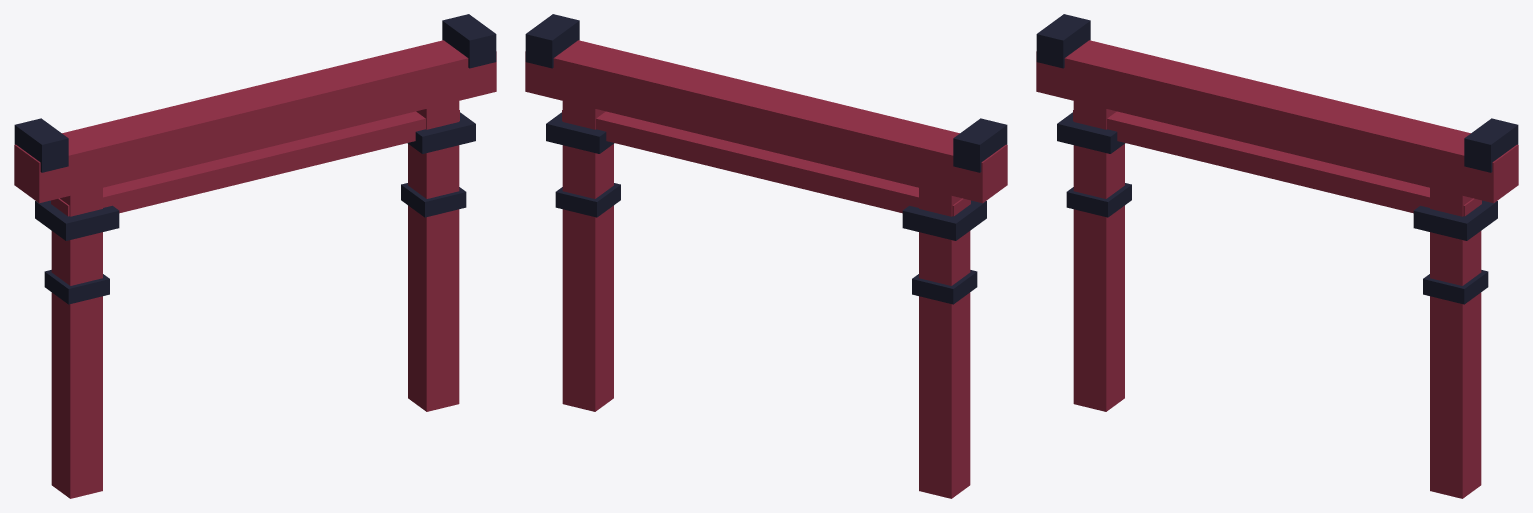
Rendered from torii.obj.
The picture shows the model from 3 angles, left to right: view 1: azimuth 30°, elevation 25°; view 2: azimuth 150°, elevation 25°; view 3: azimuth 330°, elevation 25°; orthographic projection.
Parts seen in each view (by area): view 1: KAGEBOUND_environment; view 2: KAGEBOUND_environment; view 3: KAGEBOUND_environment.
Boxes of the visible parts, x1,y1,x2,y2 form: KAGEBOUND_environment: (14, 14, 496, 498); KAGEBOUND_environment: (525, 14, 1007, 498); KAGEBOUND_environment: (1036, 14, 1518, 498).
Bounding box in the file's own units: 7.7 × 5.88 × 0.9.
